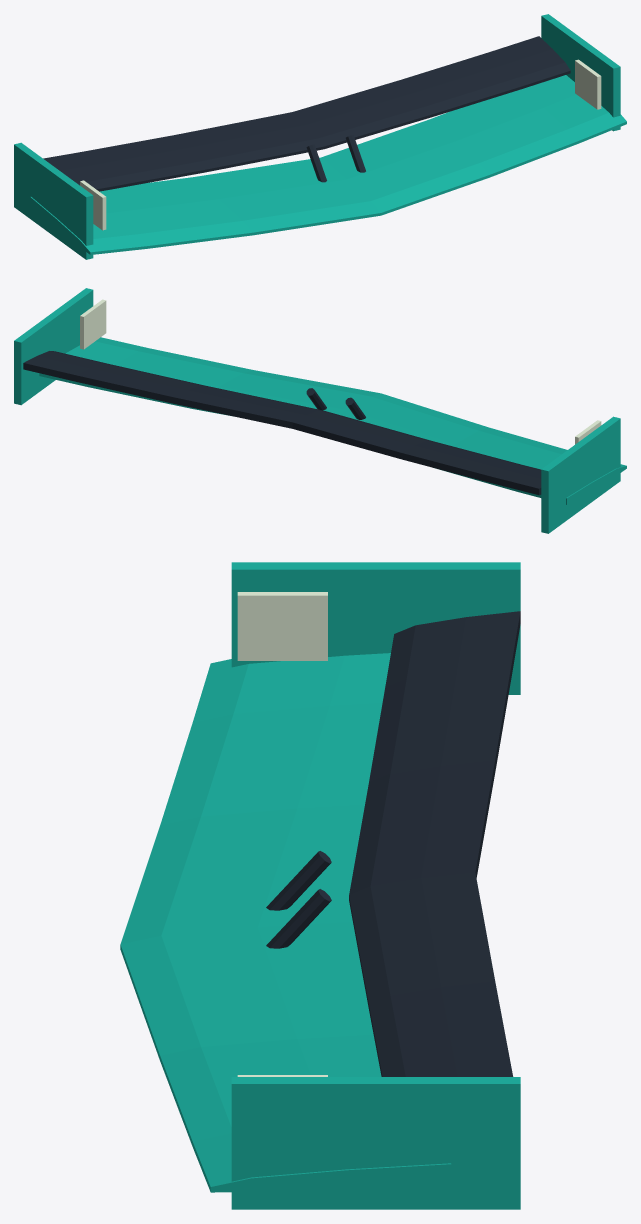
The model's file is arrow.glb.
3 views of the same model, one above another, from view 1: azimuth 30°, elevation 25°; view 2: azimuth 150°, elevation 25°; view 3: azimuth 270°, elevation 25° (orthographic). The views are drawn at different scales.
Visible parts, largest first — view 1: FrontWing; view 2: FrontWing; view 3: FrontWing.
Part boxes in pixels (<box>): FrontWing: <box>14,14,626,259</box>; FrontWing: <box>14,288,626,533</box>; FrontWing: <box>120,562,520,1209</box>.
Bounding box in the file's own units: 2.06 × 0.232 × 0.665.
